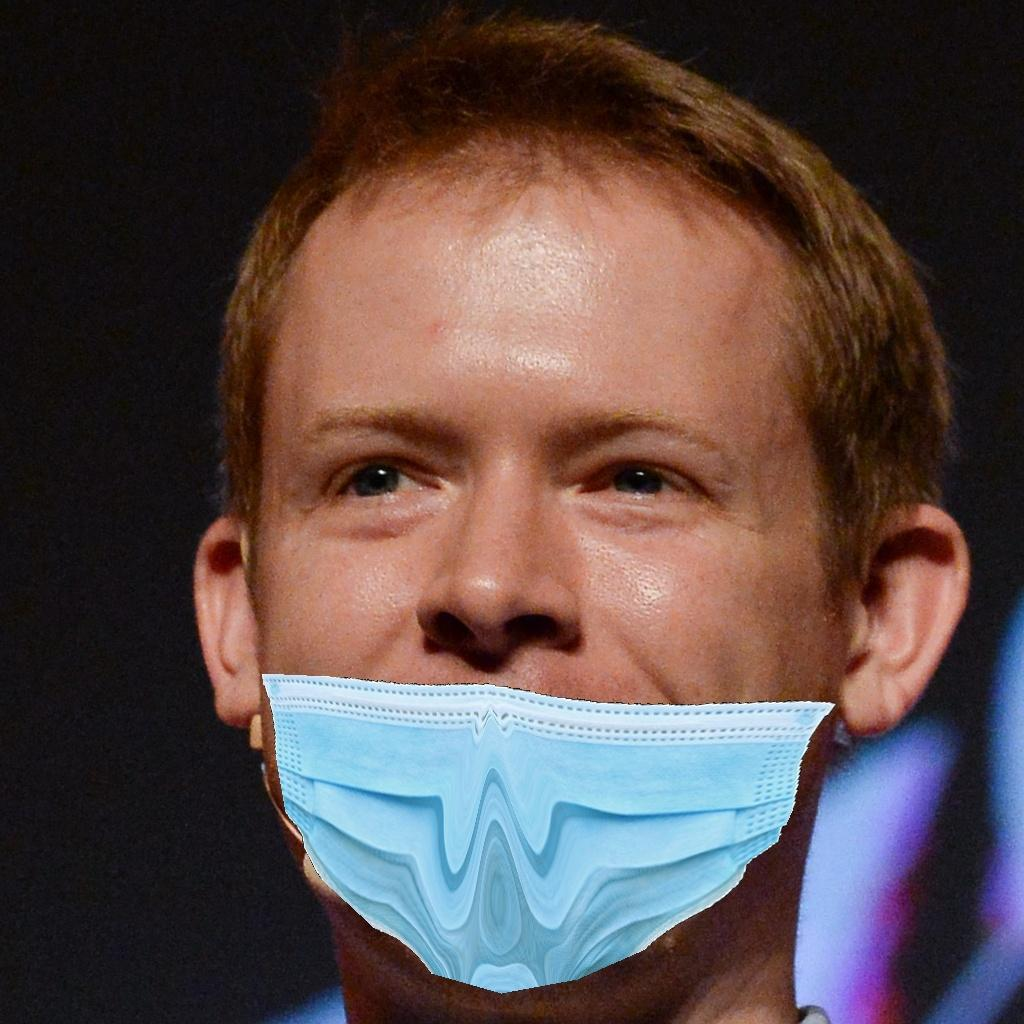Máscara Incorreta: (249, 285, 840, 977)
